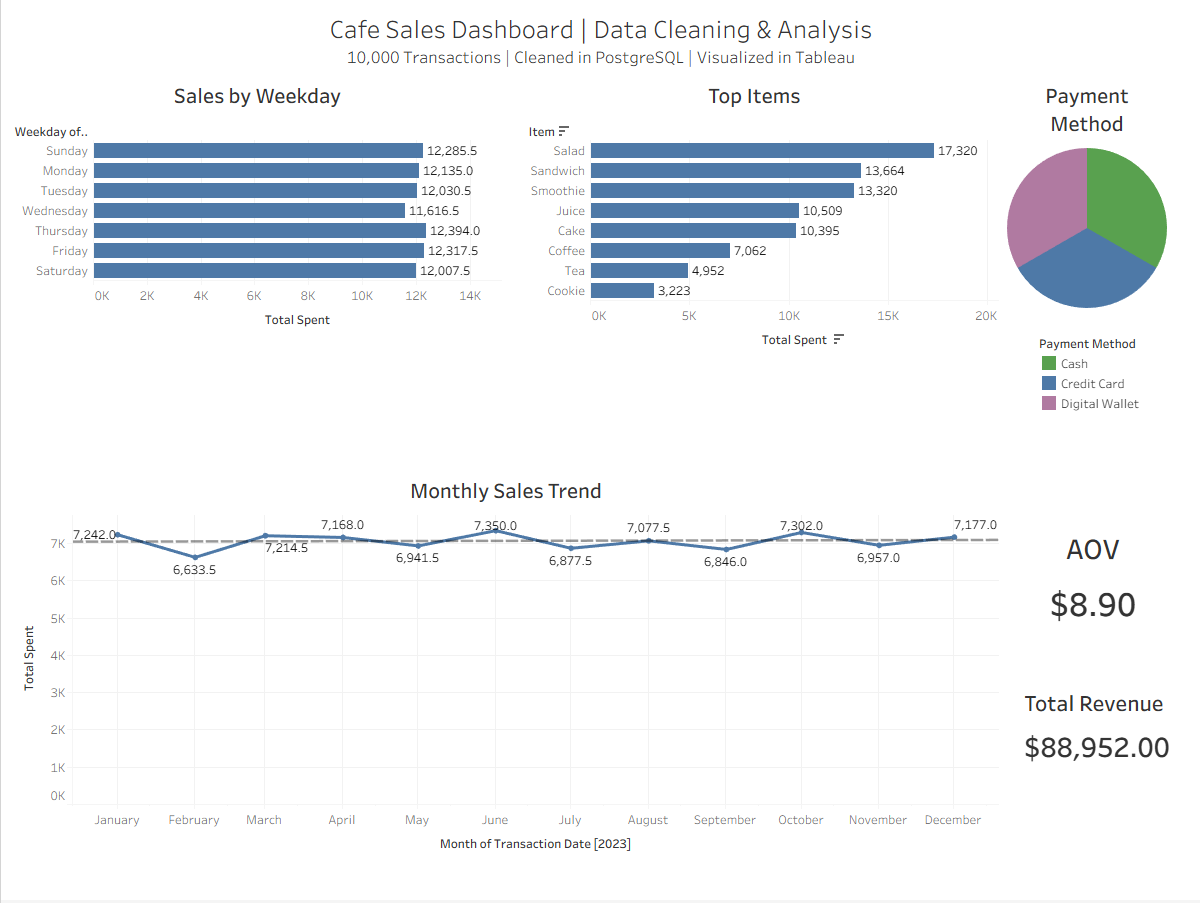

What the dashboard file says about the page in this screenshot:
{"tool":"tableau","page":{"name":"Dashboard 1","canvas":[1200,900],"ordinal":0},"visuals":[{"type":"title","box":[8,8,1184,65]},{"type":"worksheet","title":"Sales by Weekday","mark":"Bar","rows":["transaction_date"],"cols":["total_spent"],"box":[8,73,497,394.7]},{"type":"worksheet","title":"Top Items","mark":"Automatic","rows":["item"],"cols":["total_spent"],"box":[505,73,497,394.7]},{"type":"worksheet","title":"Payment Method","mark":"Pie","box":[1002,73,190,819]},{"type":"legend","title":"Payment Method","param":"[federated.18x5cq50a6ifeq1h0hbky0gzcvn1].[none:payment_method:nk]","box":[1038,335,140,98]},{"type":"worksheet","title":"Monthly Sales Trend","mark":"Automatic","rows":["total_spent"],"cols":["transaction_date"],"box":[8,467.7,994,394.7]},{"type":"worksheet","title":"Average Order Value","mark":"Text","box":[1014,526,167,120]},{"type":"worksheet","title":"Total Revenue","mark":"Automatic","box":[1013,684,166,136]},{"type":"legend","title":"Sales by Weekday","param":"[federated.18x5cq50a6ifeq1h0hbky0gzcvn1].[sum:total_spent:qk]","box":[8,862.4,994,29.6]}]}

Visuals, with their boxes in screenshot pixels (x1, y1, x2, y2), scaled from the page's 1200x900 canvas onto the 1200x903 screenshot:
title: (left=8, top=8, right=1192, bottom=73)
"Sales by Weekday" worksheet (Bar marks): (left=8, top=73, right=505, bottom=469)
"Top Items" worksheet: (left=505, top=73, right=1002, bottom=469)
"Payment Method" worksheet (Pie marks): (left=1002, top=73, right=1192, bottom=895)
"Payment Method" legend: (left=1038, top=336, right=1178, bottom=434)
"Monthly Sales Trend" worksheet: (left=8, top=469, right=1002, bottom=865)
"Average Order Value" worksheet (Text marks): (left=1014, top=528, right=1181, bottom=648)
"Total Revenue" worksheet: (left=1013, top=686, right=1179, bottom=823)
"Sales by Weekday" legend: (left=8, top=865, right=1002, bottom=895)
